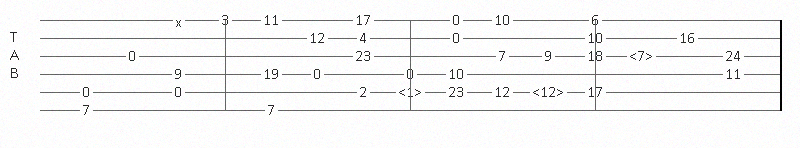0: (82, 85, 94, 99), (128, 49, 140, 63), (174, 85, 186, 99), (313, 67, 325, 81), (406, 67, 418, 81), (452, 31, 464, 45), (452, 13, 464, 27)
10: (448, 67, 468, 81), (494, 13, 514, 27), (587, 31, 607, 45)
11: (263, 13, 283, 27), (725, 67, 745, 81)
12: (309, 31, 329, 45), (494, 85, 514, 99)
16: (679, 31, 699, 45)
17: (355, 13, 375, 27), (587, 85, 607, 99)
18: (587, 49, 607, 63)
19: (263, 67, 283, 81)
2: (359, 85, 371, 99)
23: (355, 49, 375, 63), (448, 85, 468, 99)
24: (725, 49, 745, 63)
3: (221, 13, 233, 27)
4: (359, 31, 371, 45)
6: (591, 13, 603, 27)
7: (82, 103, 94, 117), (267, 103, 279, 117), (498, 49, 510, 63)
9: (174, 67, 186, 81), (544, 49, 556, 63)
harmonic: (532, 85, 568, 99), (398, 85, 426, 99), (629, 49, 657, 63)
x: (175, 15, 186, 26)
